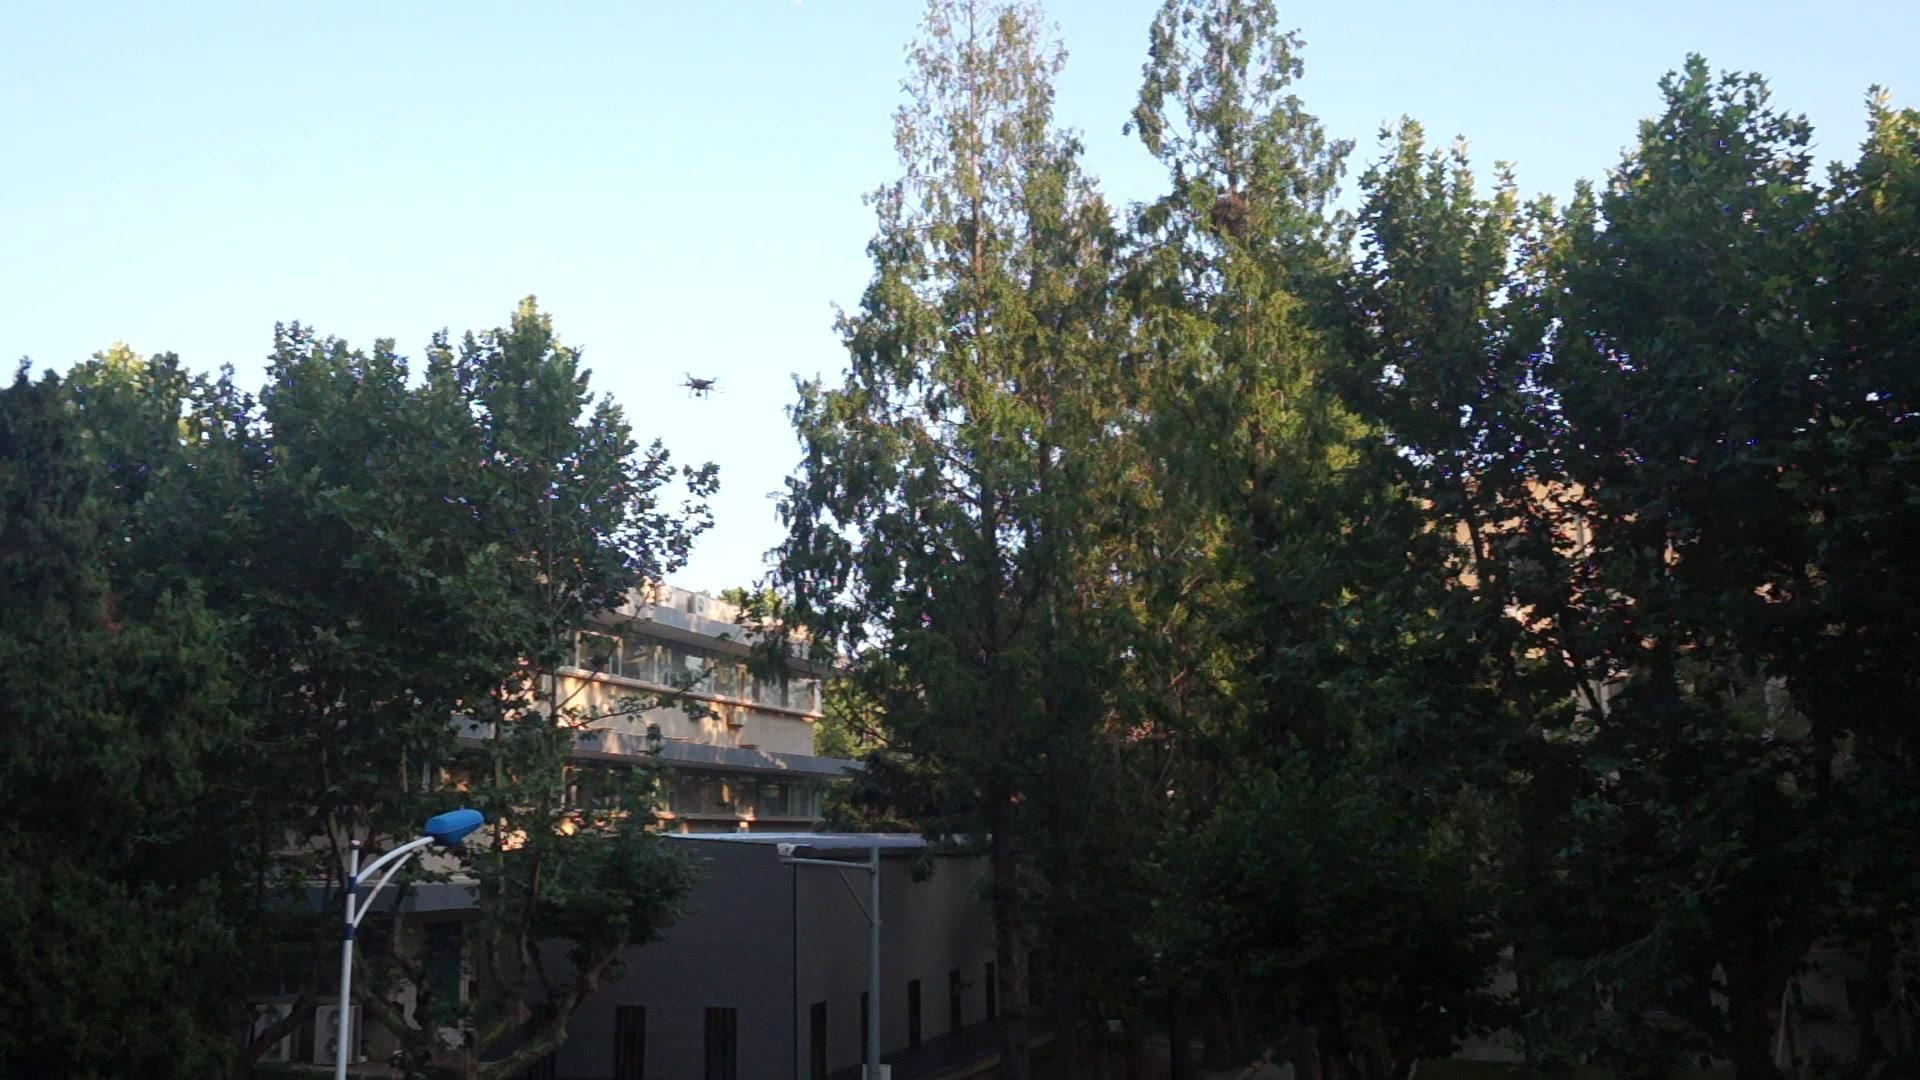UAV: (678, 372, 728, 402)
